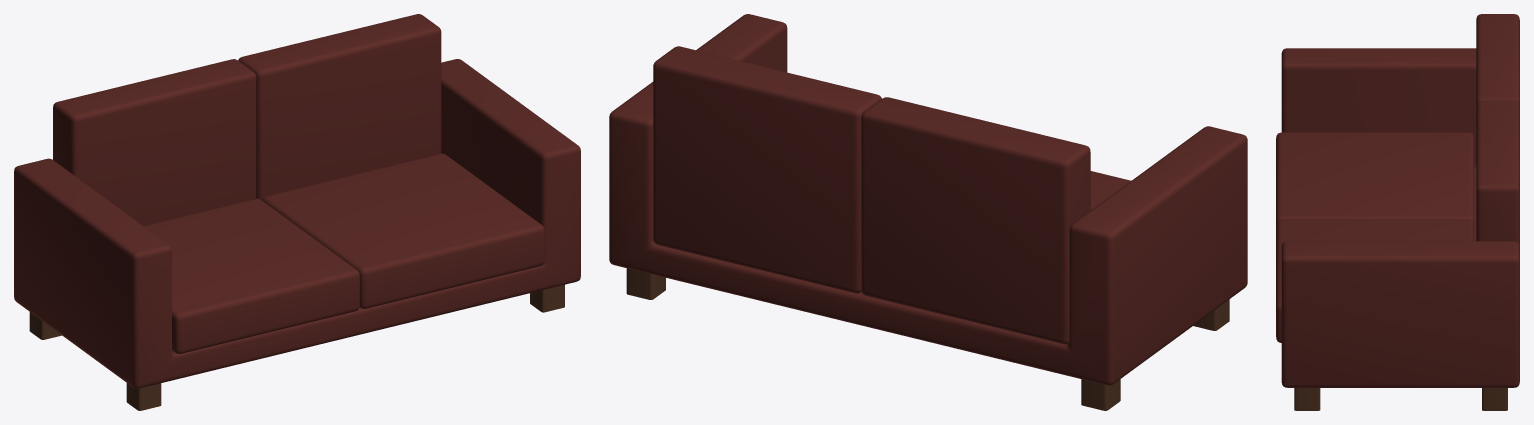
The model's file is 2SeaterSofa.fbx.
3 views of the same model, side by side, from view 1: azimuth 30°, elevation 25°; view 2: azimuth 150°, elevation 25°; view 3: azimuth 270°, elevation 25° (orthographic). The views are drawn at different scales.
Parts seen in each view (by area): view 1: Box112, Column_stanick016; view 2: Box112, Column_stanick016; view 3: Box112, Column_stanick016.
Part boxes in pixels (box(x1,y1,x2,y2)): Box112: box(14, 14, 580, 388); Column_stanick016: box(29, 284, 564, 410); Box112: box(609, 14, 1247, 385); Column_stanick016: box(626, 268, 1229, 410); Box112: box(1276, 14, 1519, 387); Column_stanick016: box(1294, 388, 1507, 410).
Size of the model in its own units: 1722 by 839 by 800.
